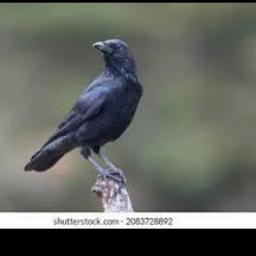Crow: (23, 38, 143, 176)
